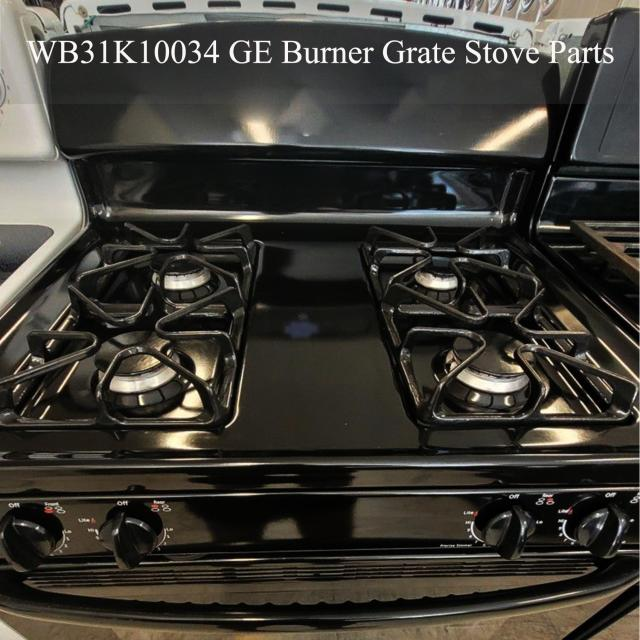knob_ON: (336, 220, 630, 437), (55, 228, 280, 434)
